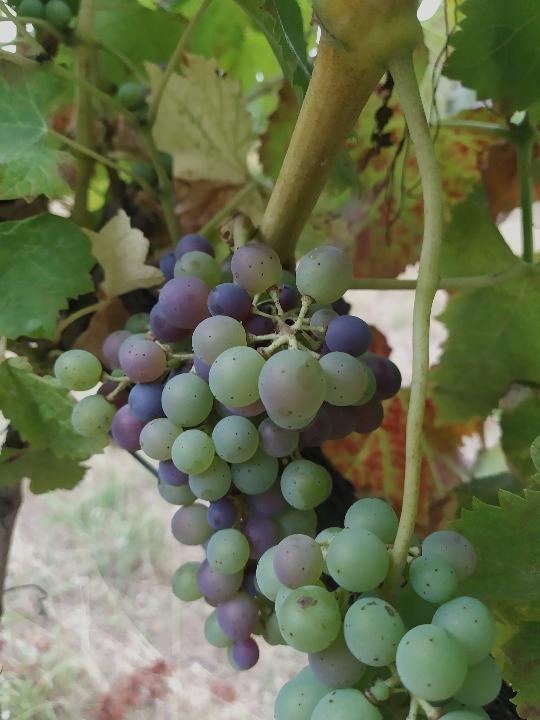grape: (52, 230, 405, 676)
